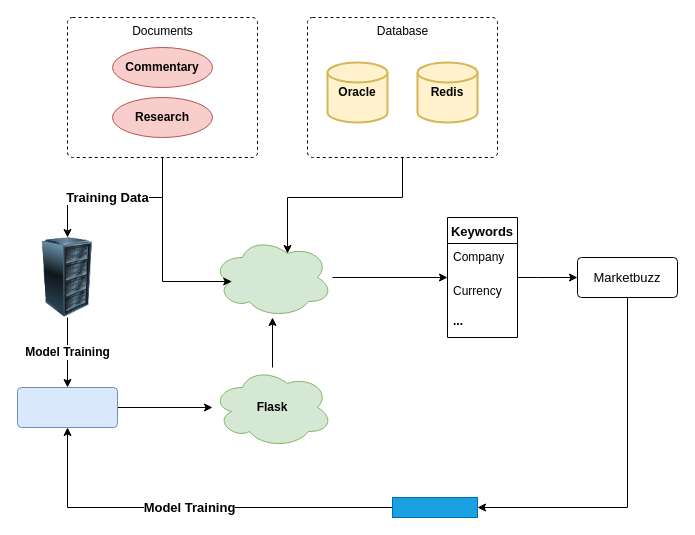
The diagram is 695 pixels wide and 535 high, and some of its shapes have lost their labels. Here are the shapes that lost their labels. From the top down, the centre of each, then its label:
At point 67,277: "GPU Server".
At point 272,277: "Django".
At point 67,407: "NLP Models".
At point 435,507: "Feedback".
